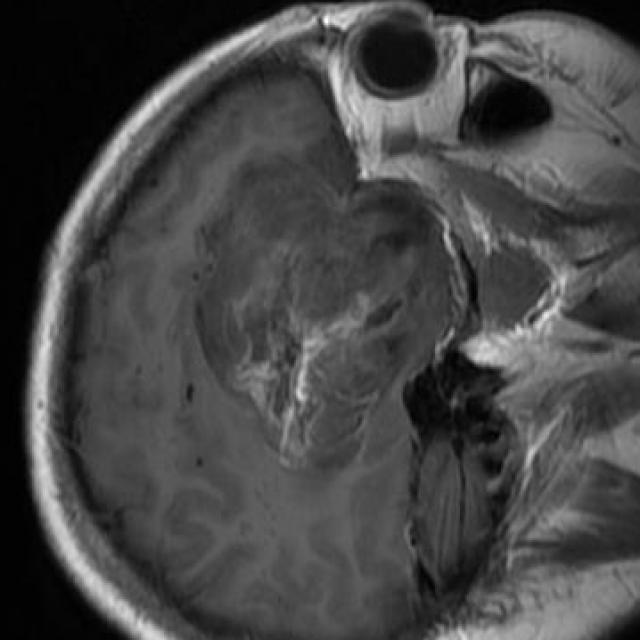glioma: (194, 137, 471, 471)
